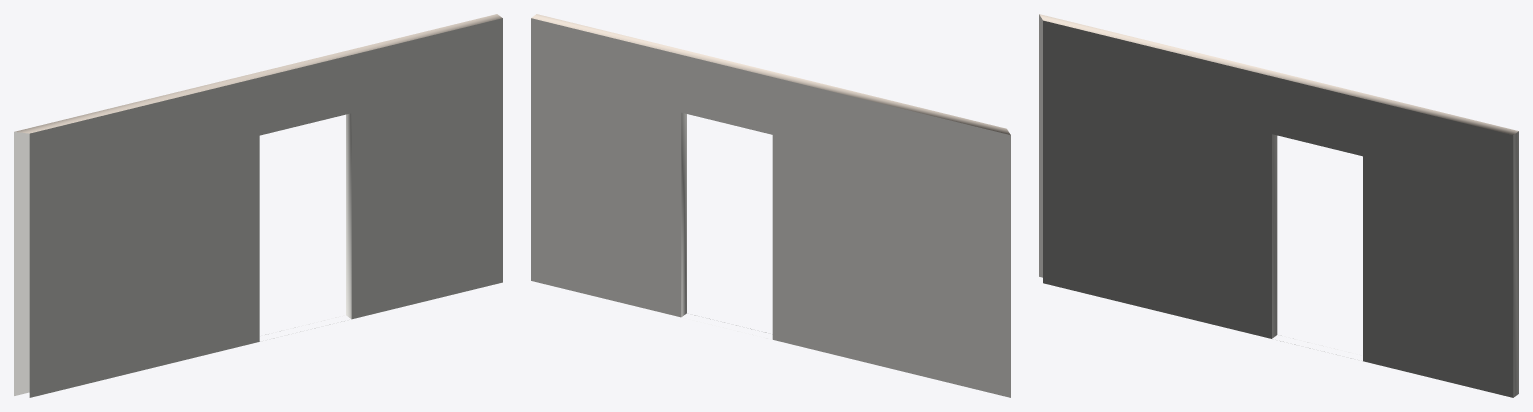
The model's file is Wall2.obj.
3 views of the same model, side by side, from view 1: azimuth 30°, elevation 25°; view 2: azimuth 150°, elevation 25°; view 3: azimuth 330°, elevation 25° (orthographic).
Visible parts, largest first — view 1: wall_2; view 2: wall_2; view 3: wall_2.
Part boxes in pixels (left/top/right/bottom): wall_2: left=14, top=14, right=502, bottom=397; wall_2: left=531, top=14, right=1010, bottom=397; wall_2: left=1039, top=14, right=1518, bottom=397.
Bounding box in the file's own units: 4.91 × 2.57 × 0.1.
